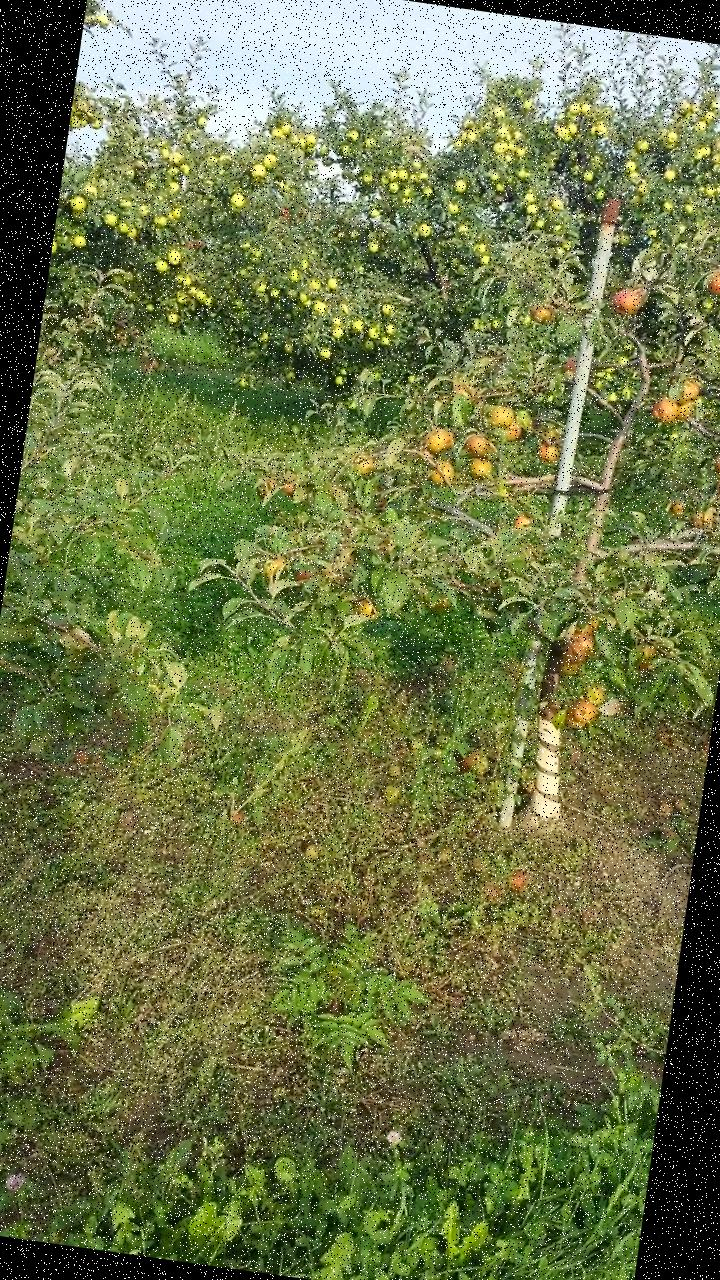Apple: (561, 630, 598, 664), (424, 424, 455, 454), (261, 552, 288, 586), (573, 610, 605, 636), (612, 288, 641, 316), (671, 376, 700, 404), (632, 641, 657, 672), (430, 458, 455, 487), (691, 504, 717, 531), (652, 396, 678, 422), (464, 432, 490, 458), (487, 405, 515, 428), (467, 456, 496, 478), (564, 702, 588, 728), (558, 652, 584, 675), (574, 698, 596, 722), (537, 440, 560, 462), (582, 684, 606, 704), (531, 304, 554, 324), (451, 380, 474, 400), (507, 418, 524, 444), (259, 477, 279, 499), (676, 398, 695, 421), (356, 457, 376, 478), (461, 748, 481, 769), (666, 498, 688, 516), (513, 514, 533, 532), (356, 598, 376, 615), (280, 476, 296, 496), (294, 567, 315, 582), (709, 270, 719, 295), (562, 356, 576, 371)
